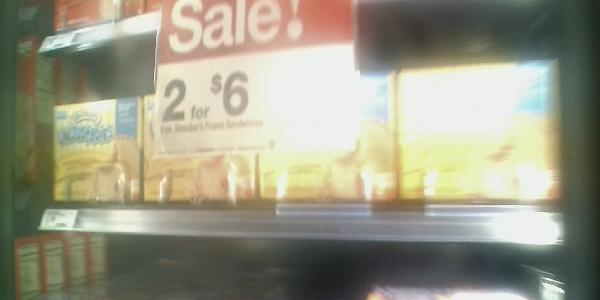icecream: (396, 60, 563, 199), (260, 69, 397, 203), (142, 79, 262, 206), (47, 95, 144, 203)
